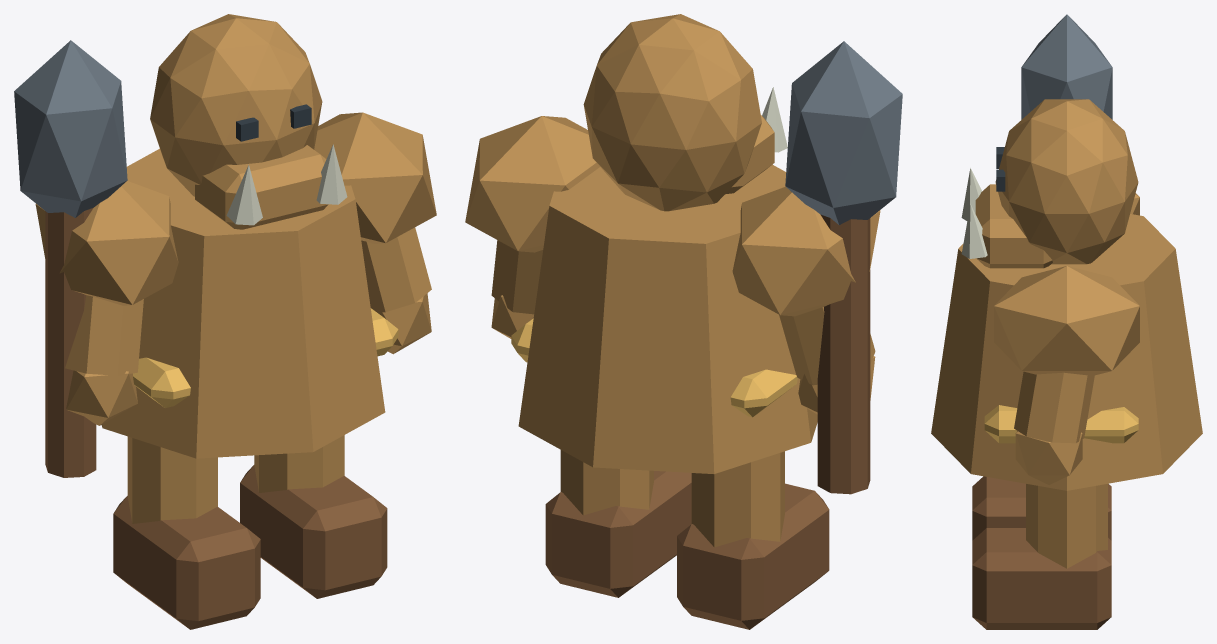
The model's file is grunt.glb.
3 views of the same model, side by side, from view 1: azimuth 30°, elevation 25°; view 2: azimuth 150°, elevation 25°; view 3: azimuth 270°, elevation 25° (orthographic). The views are drawn at different scales.
Visible parts, largest first — view 1: grunt; view 2: grunt; view 3: grunt.
Part boxes in pixels (left/top/right/bottom): grunt: left=14, top=14, right=436, bottom=629; grunt: left=465, top=14, right=902, bottom=629; grunt: left=931, top=14, right=1202, bottom=629.
Bounding box in the file's own units: 1.14 × 1.56 × 0.76.
